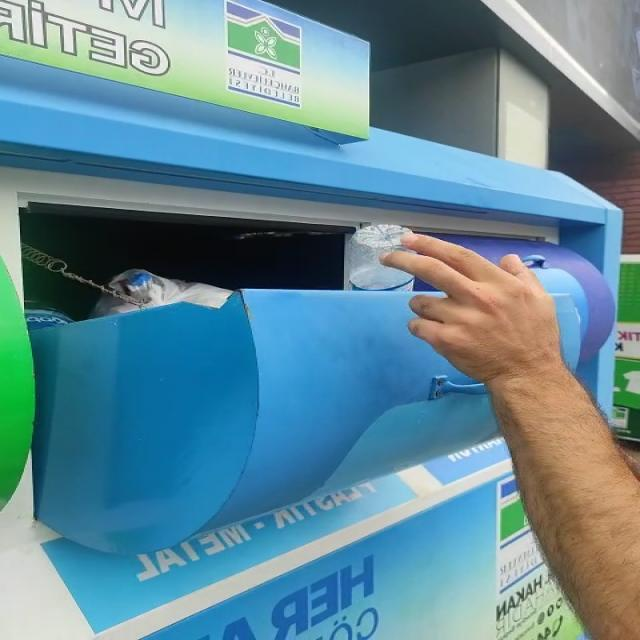Plastic: (348, 226, 413, 290)
